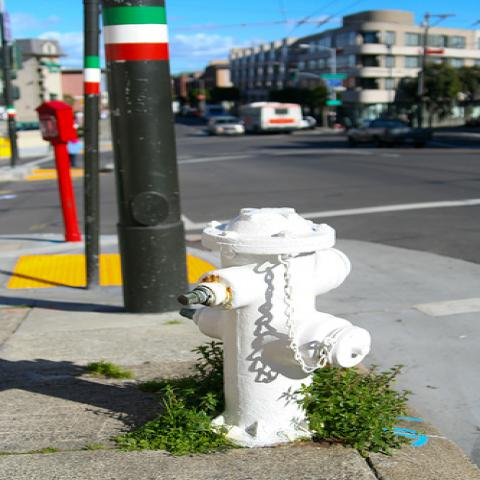bus: (240, 102, 301, 135)
car: (347, 119, 432, 148), (206, 116, 247, 135), (199, 106, 229, 120), (180, 107, 199, 118)
truck: (346, 118, 434, 148)
